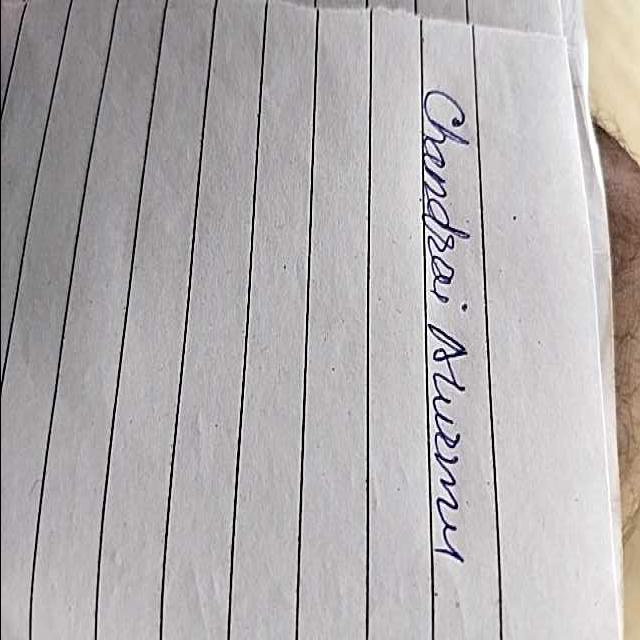signature: (392, 61, 498, 578)
